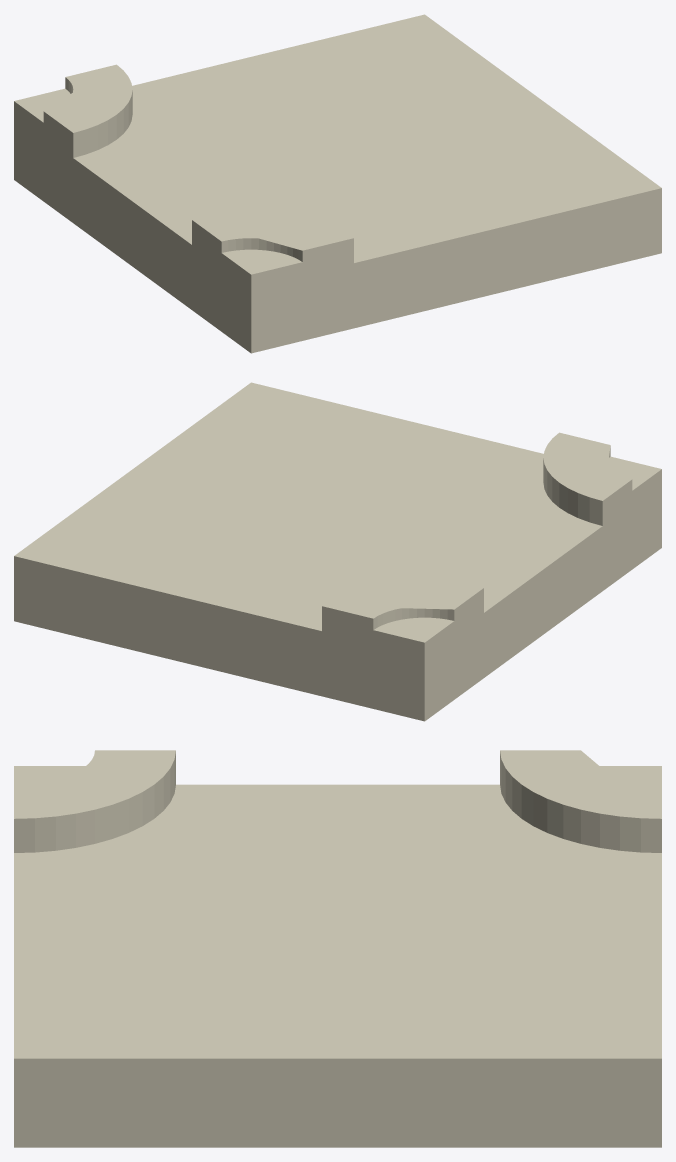
File: roadtile_265.glb
The picture shows the model from 3 angles, top to bottom: view 1: azimuth 30°, elevation 25°; view 2: azimuth 150°, elevation 25°; view 3: azimuth 270°, elevation 25°; orthographic projection. The views are drawn at different scales.
Parts seen in each view (by area): view 1: Mesh1 Group1 Model; view 2: Mesh1 Group1 Model; view 3: Mesh1 Group1 Model.
Boxes of the visible parts, bbox=[...] form: Mesh1 Group1 Model: bbox=[14, 14, 661, 353]; Mesh1 Group1 Model: bbox=[14, 382, 661, 721]; Mesh1 Group1 Model: bbox=[14, 750, 661, 1147].
Size of the model in its own units: 3 by 0.63 by 3.
